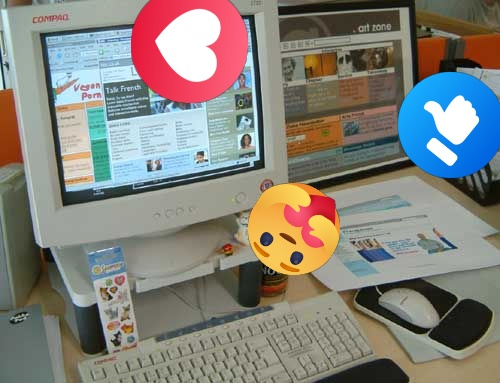care: (248, 183, 340, 275)
like: (398, 72, 500, 178)
love: (131, 0, 248, 103)
